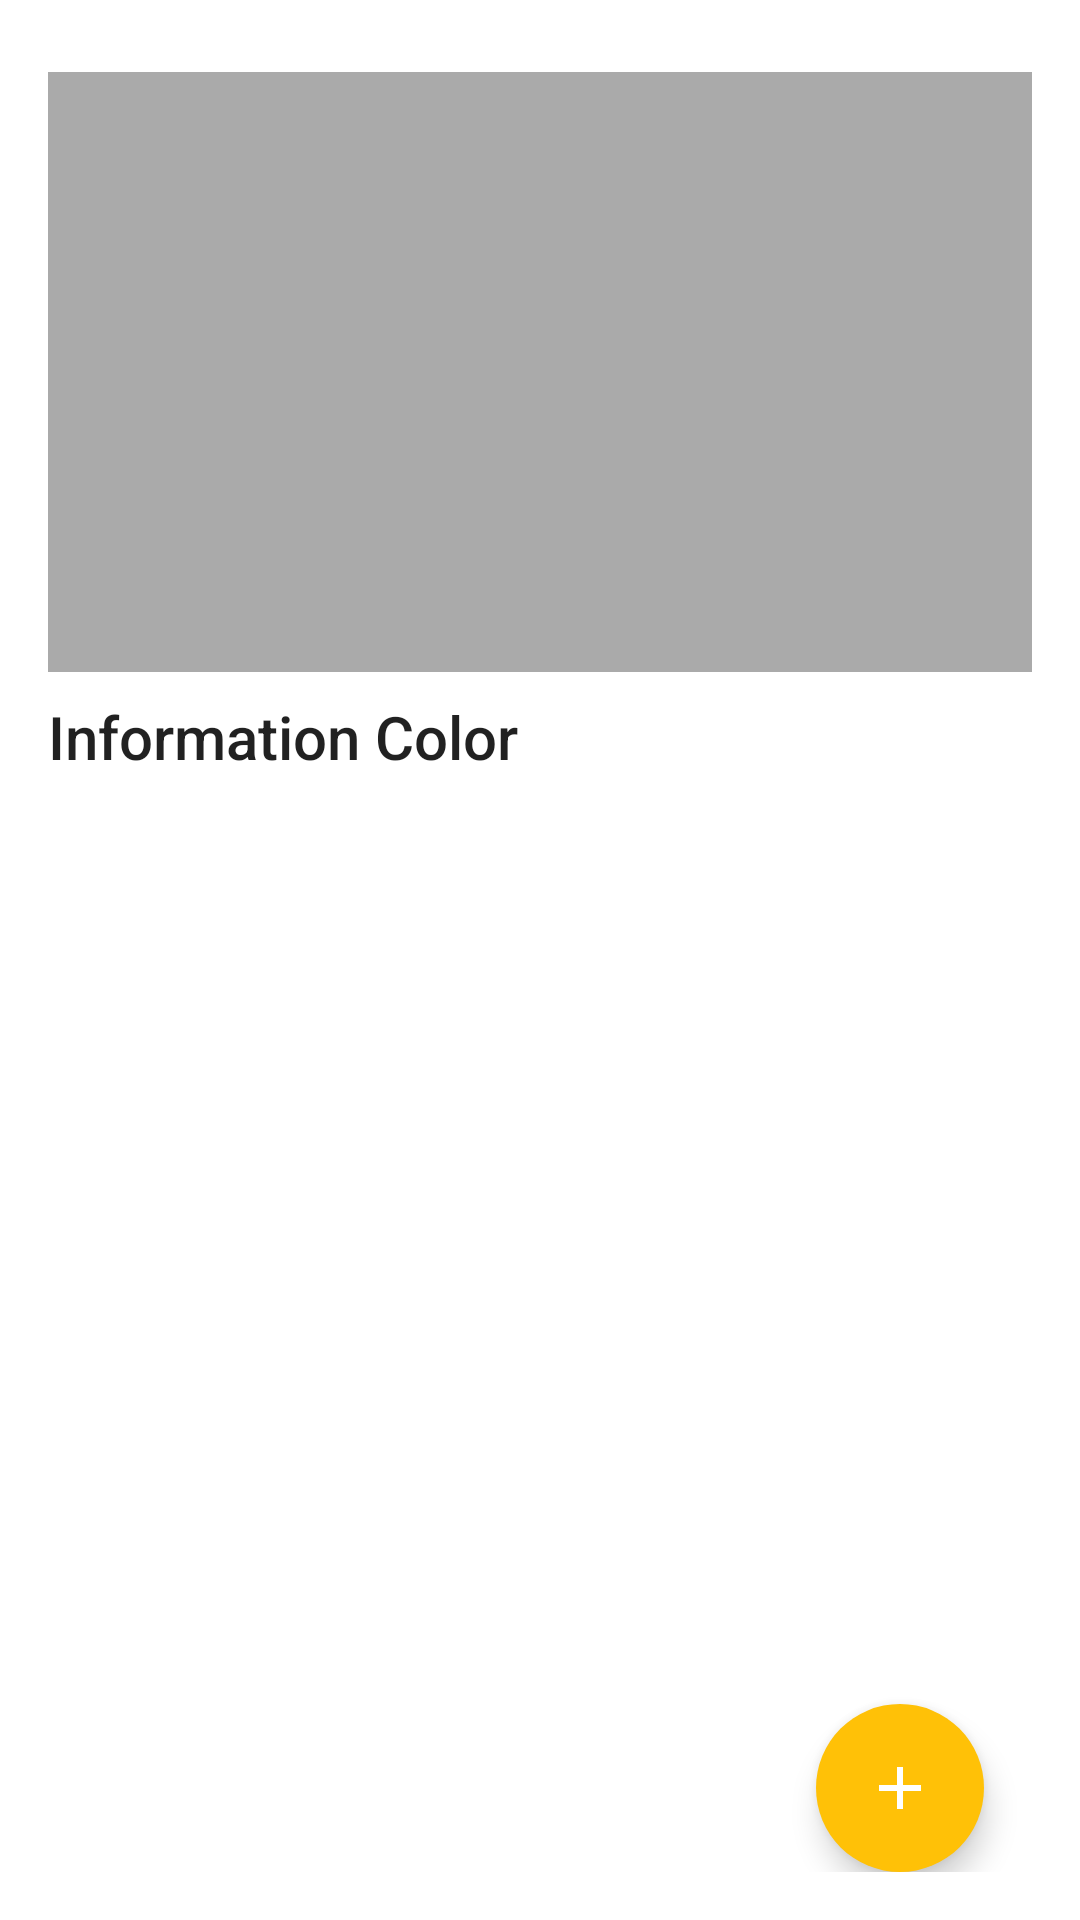

Screen size 1080x1920. Icon name, then its center in pixels as (x=x, y=y):
fab plus: (x=900, y=1788)
